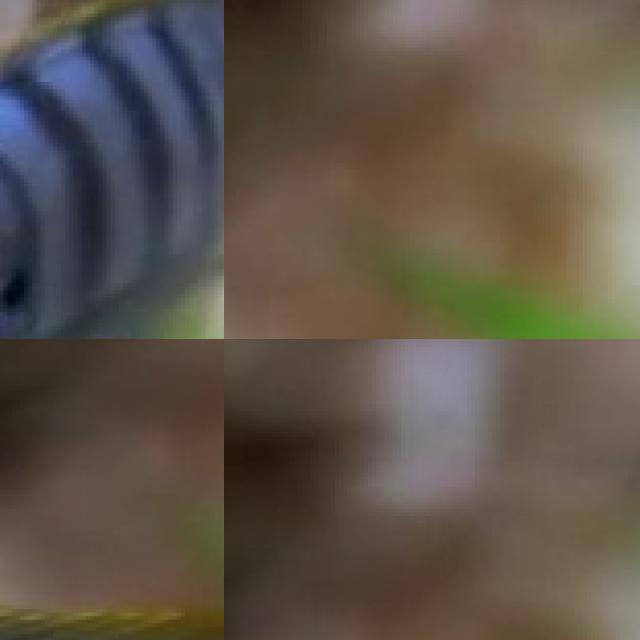fish: (0, 0, 224, 339), (0, 562, 224, 640)
